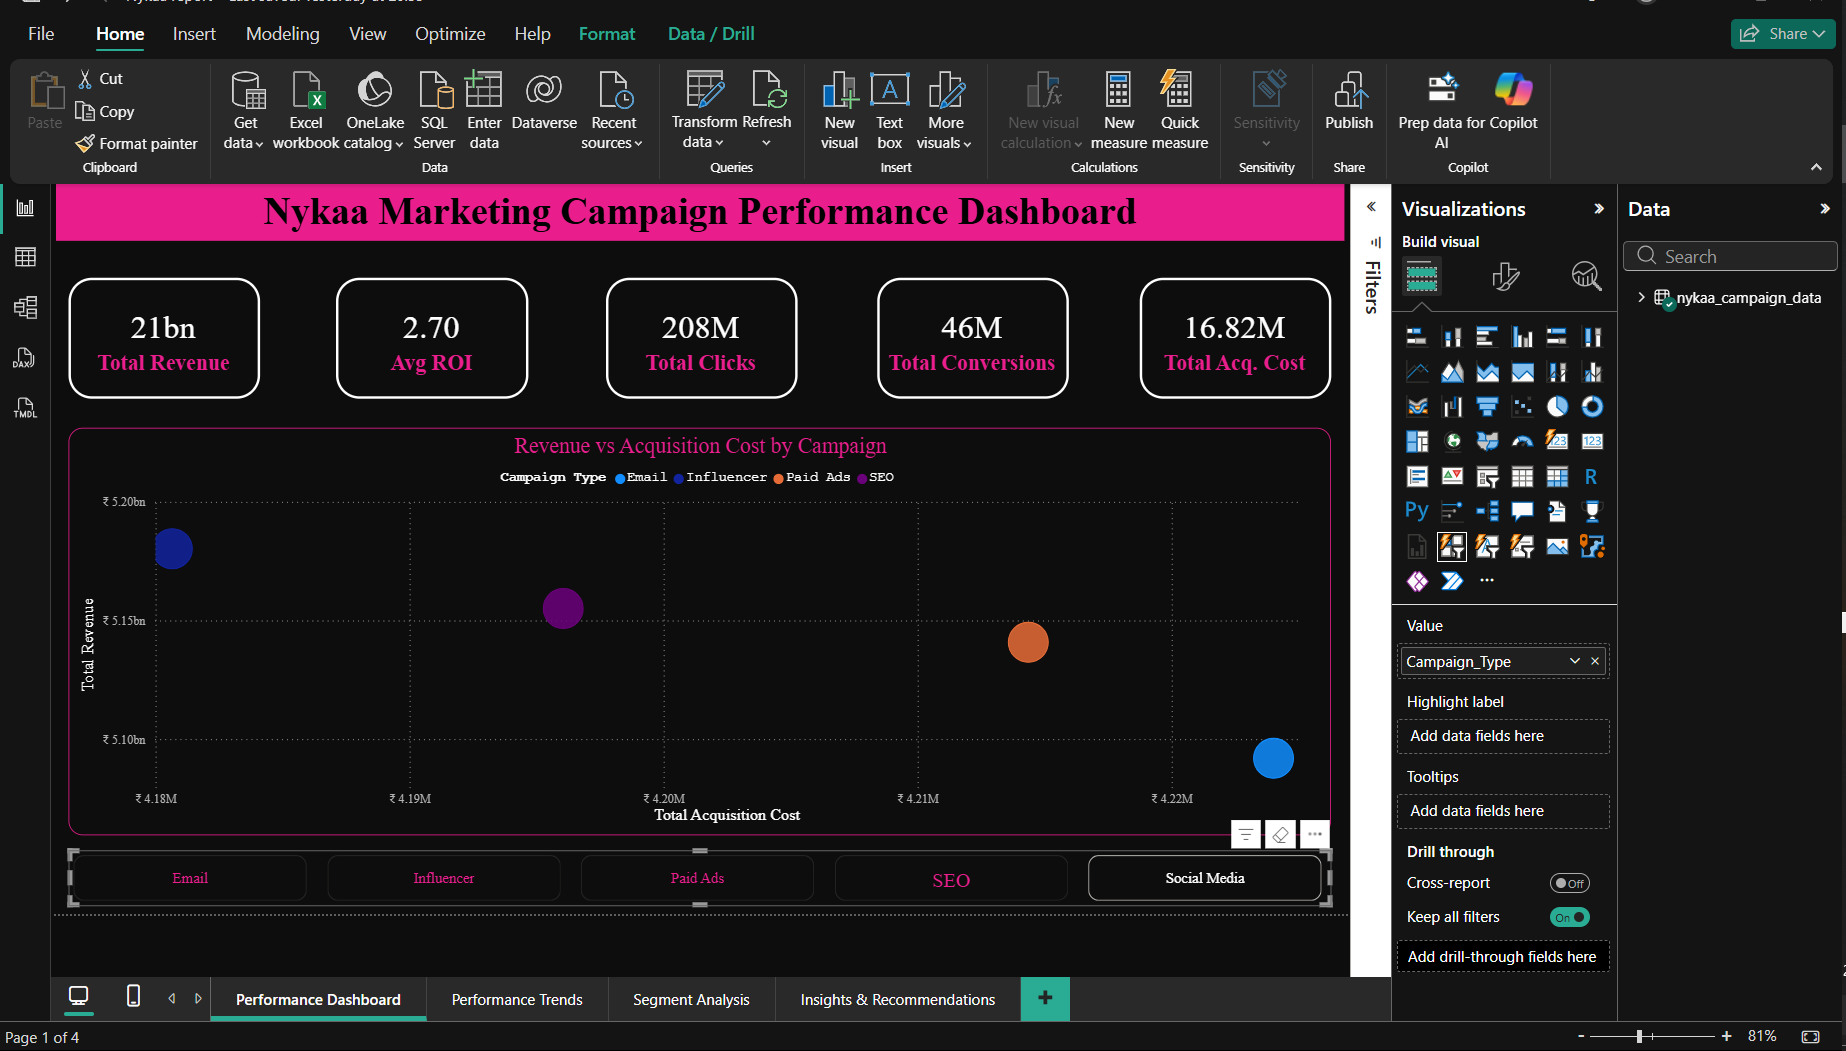

What the dashboard file says about the page in this screenshot:
{"tool":"powerbi","page":{"name":"Performance Dashboard","canvas":[1280,720],"ordinal":0},"visuals":[{"type":"textbox","box":[5.3,0,1269.4,55.8],"z":0},{"type":"card","fields":{"Values":["Sum(nykaa_campaign_data.Revenue)"]},"box":[17.2,92.4,188.5,119.5],"z":1000},{"type":"card","fields":{"Values":["Avg(nykaa_campaign_data.ROI)"]},"box":[280.8,92.4,189.7,119.5],"z":2000},{"type":"card","fields":{"Values":["Sum(nykaa_campaign_data.Clicks)"]},"box":[546.9,92.4,188.5,119.5],"z":3000},{"type":"card","fields":{"Values":["Sum(nykaa_campaign_data.Conversions)"]},"box":[814.2,92.4,188.5,119.5],"z":4000},{"type":"card","fields":{"Values":["Sum(nykaa_campaign_data.Acquisition_Cost)"]},"box":[1072.8,92.4,188.5,119.5],"z":5000},{"type":"scatterChart","title":"Revenue vs Acquisition Cost by Campaign","fields":{"X":["Sum(nykaa_campaign_data.Acquisition_Cost)"],"Y":["Sum(nykaa_campaign_data.Revenue)"],"Series":["nykaa_campaign_data.Campaign_Type"],"Size":["Sum(nykaa_campaign_data.Conversions)"]},"box":[17.2,240.2,1244,401.5],"z":6500},{"type":"advancedSlicerVisual","title":"Campaign Type","fields":{"Values":["nykaa_campaign_data.Campaign_Type"]},"box":[17.2,656.5,1244,55.4],"z":7000}]}

Visuals, with their boxes on the page's 1280x720 design canvas (x1, y1, x2, y2). These are canvas units, not pixel positions in the 1846x1051 screenshot, which may show the page scaled, cropped or inside an application window:
textbox: Rect(5, 0, 1275, 56)
card - Sum(nykaa_campaign_data.Revenue): Rect(17, 92, 206, 212)
card - Avg(nykaa_campaign_data.ROI): Rect(281, 92, 470, 212)
card - Sum(nykaa_campaign_data.Clicks): Rect(547, 92, 735, 212)
card - Sum(nykaa_campaign_data.Conversions): Rect(814, 92, 1003, 212)
card - Sum(nykaa_campaign_data.Acquisition_Cost): Rect(1073, 92, 1261, 212)
"Revenue vs Acquisition Cost by Campaign" scatterChart: Rect(17, 240, 1261, 642)
"Campaign Type" advancedSlicerVisual: Rect(17, 656, 1261, 712)
